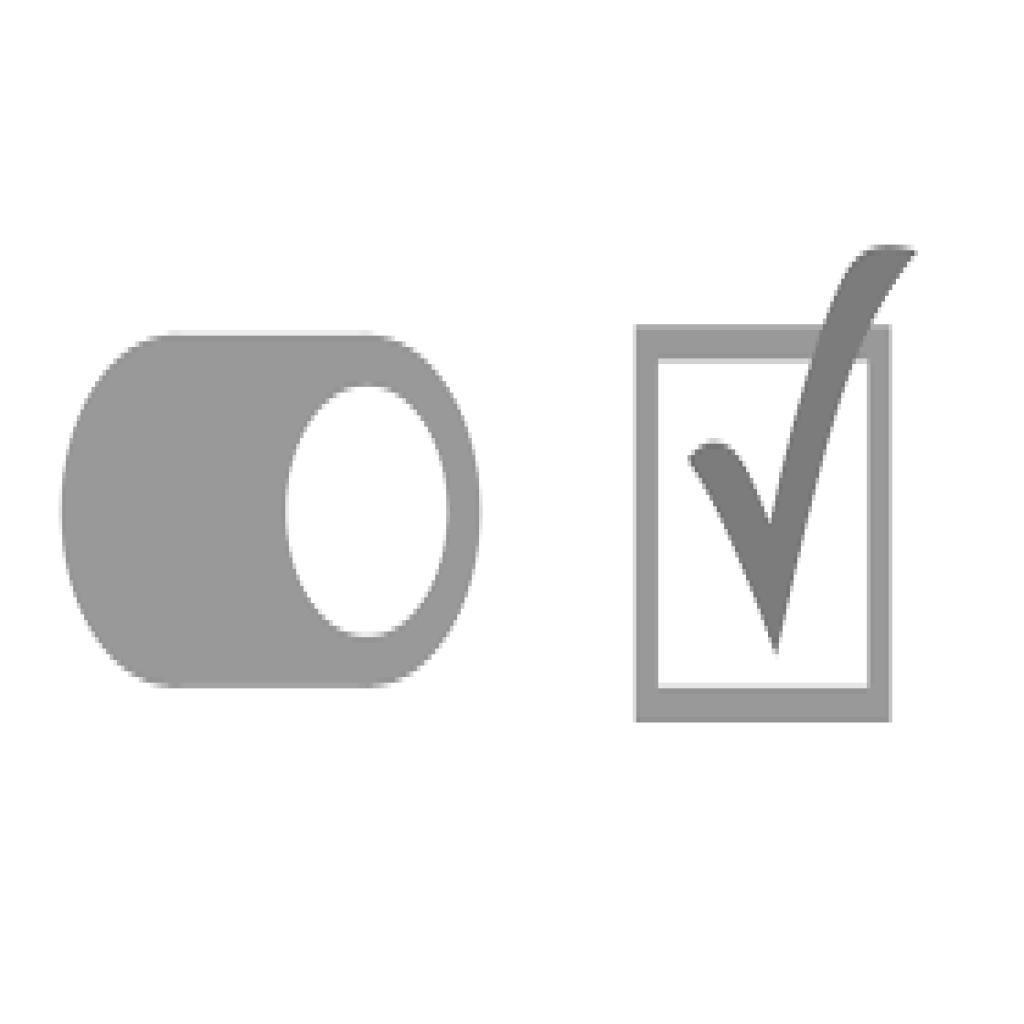checkbox: (636, 329, 893, 722)
switch: (61, 334, 482, 689)
